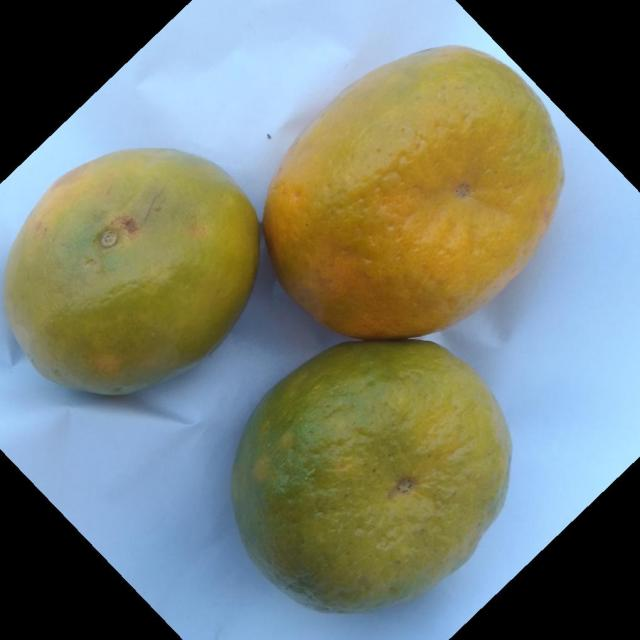fresh orange: (261, 43, 565, 340), (230, 337, 512, 614), (3, 146, 260, 397)
